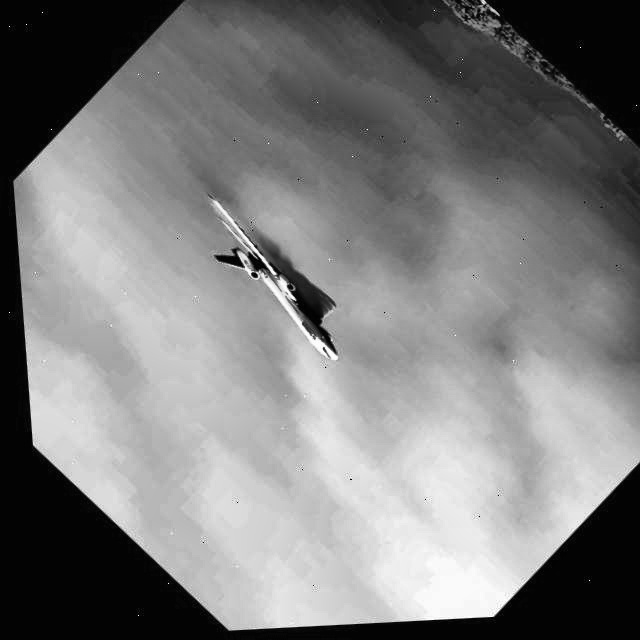Smoke: (7, 107, 531, 640), (121, 0, 640, 530)
